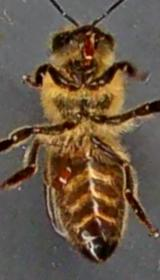varroa_mite: (38, 160, 83, 196)
